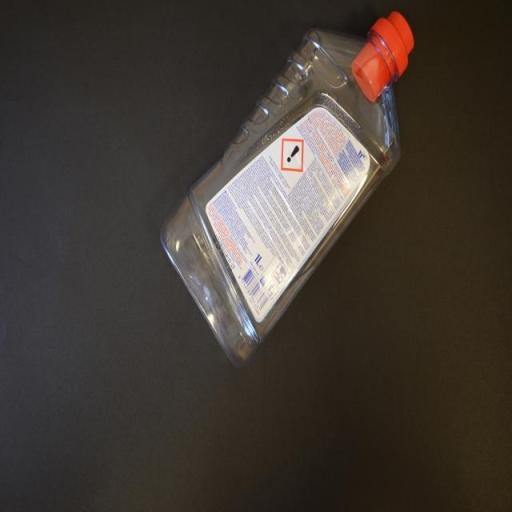plastic: (158, 7, 416, 370)
